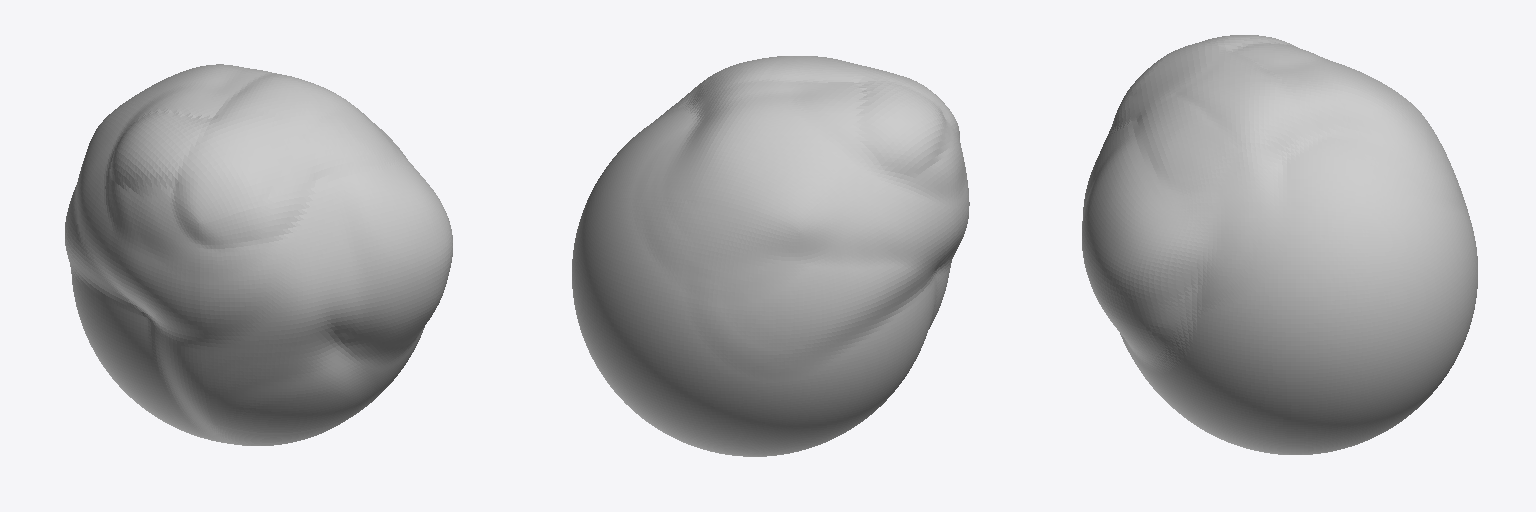
File: wtf.obj
The picture shows the model from 3 angles: view 1: azimuth 30°, elevation 25°; view 2: azimuth 150°, elevation 25°; view 3: azimuth 270°, elevation 25°; orthographic projection.
Parts seen in each view (by area): view 1: Quad_Sphere; view 2: Quad_Sphere; view 3: Quad_Sphere.
Boxes of the visible parts, <box> form: Quad_Sphere: <box>65,64,452,445</box>; Quad_Sphere: <box>572,56,969,456</box>; Quad_Sphere: <box>1082,35,1477,454</box>.
Bounding box in the file's own units: 2.66 × 2.78 × 2.79.